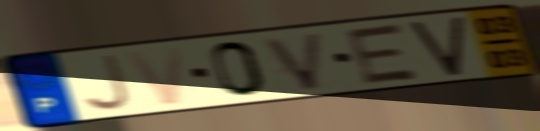0: (208, 39, 269, 99)
E: (343, 21, 424, 87)
J: (80, 52, 134, 113)
V: (260, 29, 327, 93), (122, 44, 187, 108), (406, 13, 466, 79)
